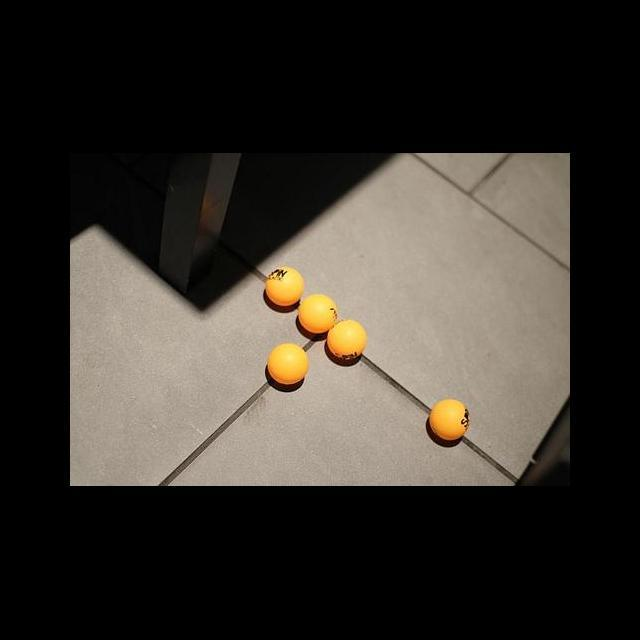ping-pong-ball: (266, 344, 310, 386), (429, 399, 471, 442), (327, 320, 368, 362), (298, 294, 339, 335), (264, 266, 304, 308)
